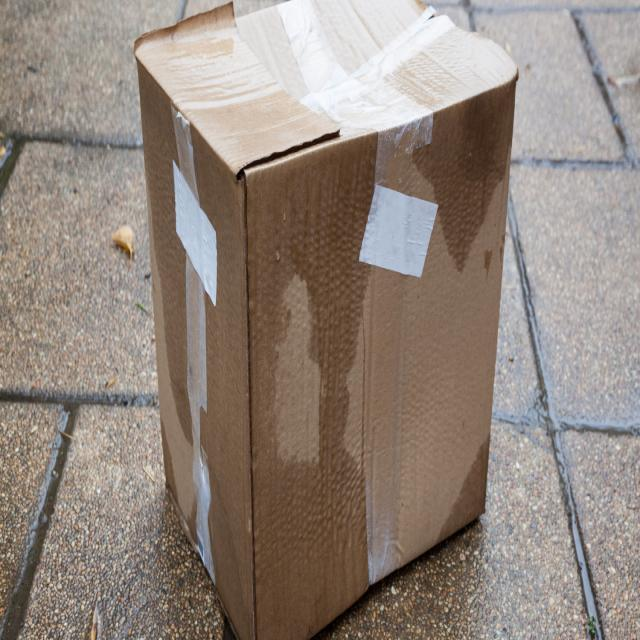wet: (138, 61, 506, 639)
